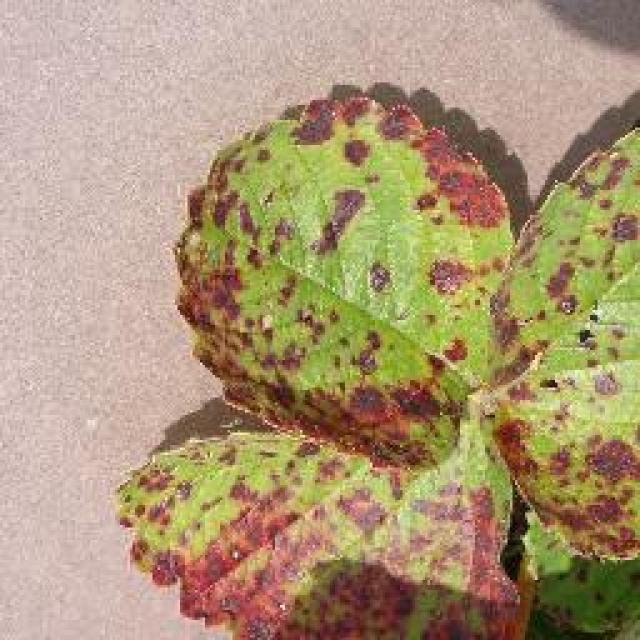Strawberry leaf scorch: (172, 108, 640, 590)
